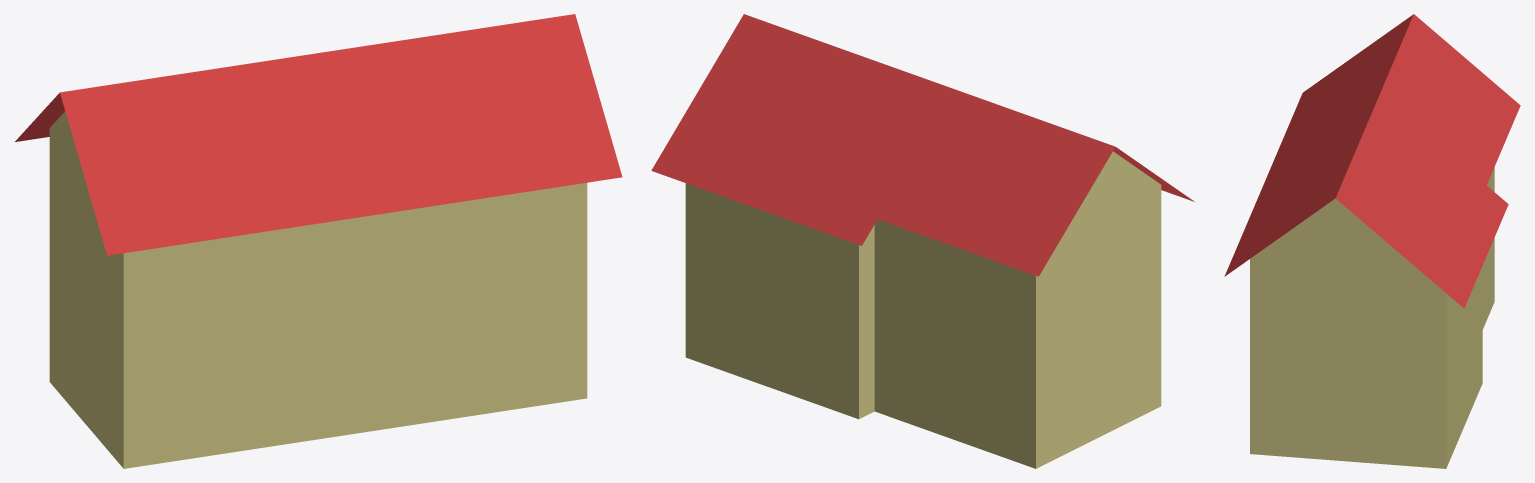
3 renders of one model, left to right at view 1: azimuth 30°, elevation 25°; view 2: azimuth 150°, elevation 25°; view 3: azimuth 270°, elevation 25°, orthographic. The views are drawn at different scales.
Bounding box in the file's own units: 21.49 × 13.29 × 13.45.
